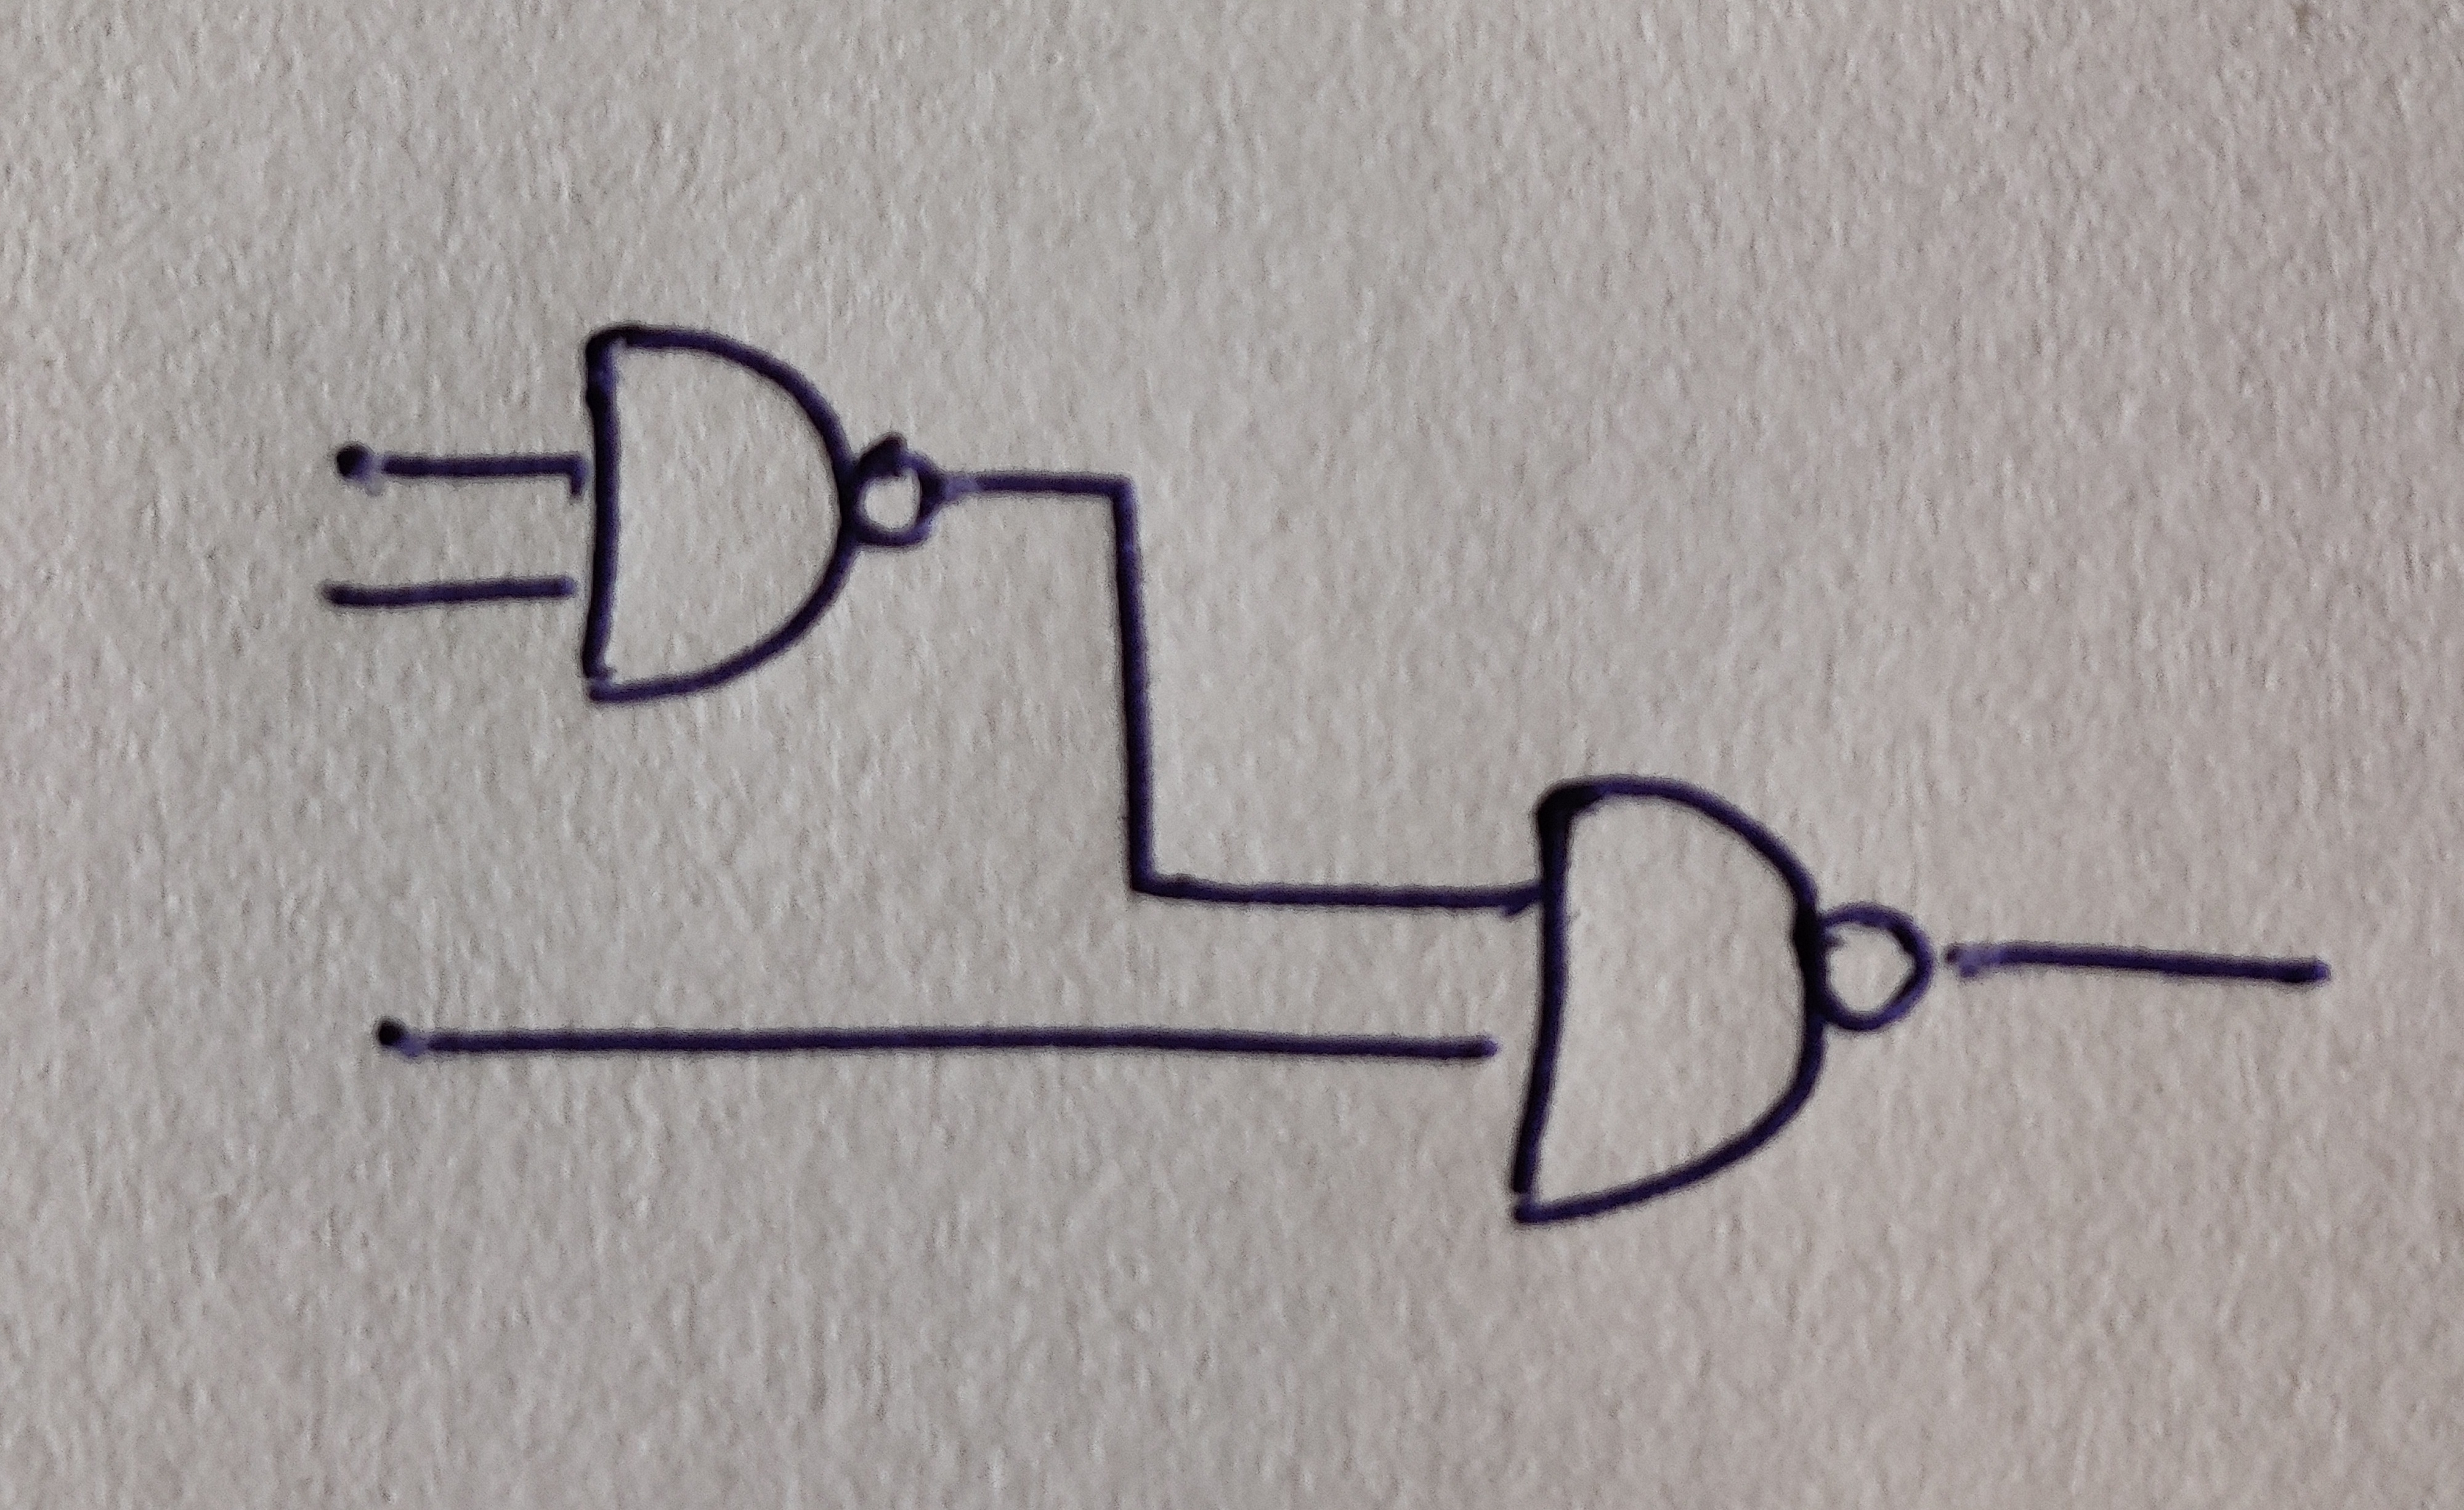and: (1507, 769, 1827, 1227), (581, 320, 857, 706)
not: (1818, 901, 1936, 1035), (854, 431, 945, 553)
